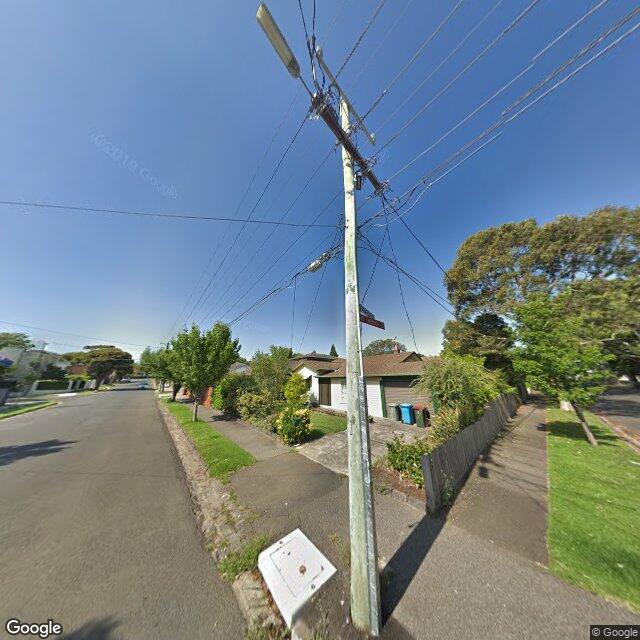crossarm: (321, 102, 392, 197), (316, 51, 377, 146)
streetlight: (256, 3, 316, 100)
timber-pole: (341, 101, 382, 635)
